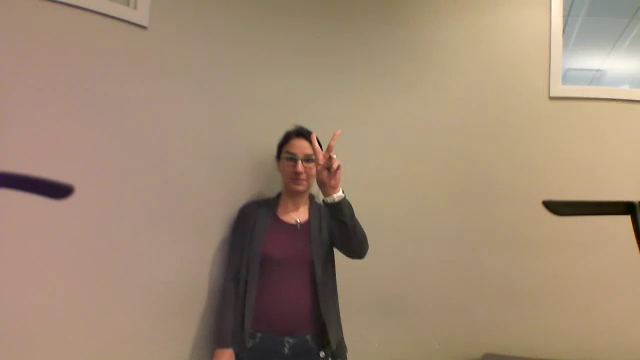peace: (303, 123, 351, 187)
